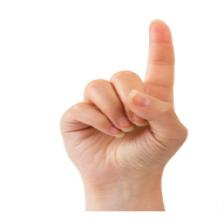one: (56, 17, 190, 200)
